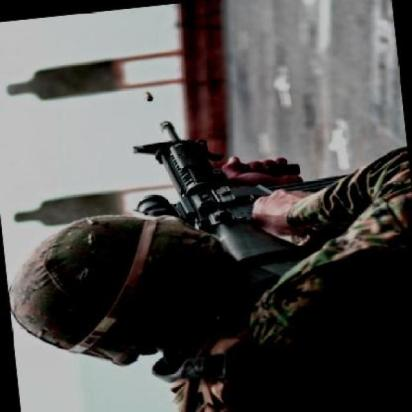Gun: (123, 99, 364, 292)
